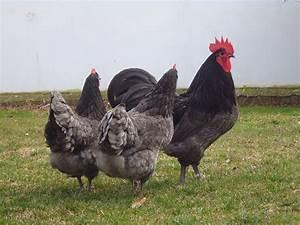hen: (108, 34, 261, 185), (94, 63, 179, 208), (42, 67, 106, 192)
